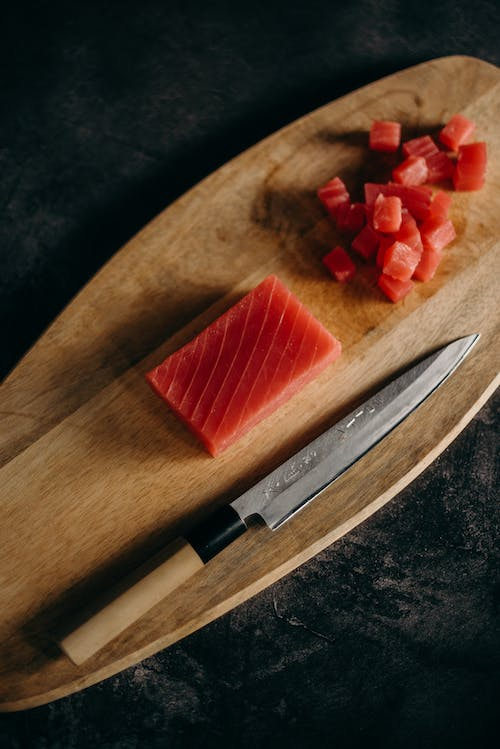knife: (54, 325, 483, 667)
